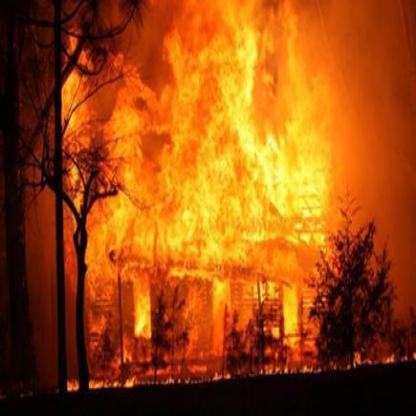fire: (60, 0, 350, 372)
